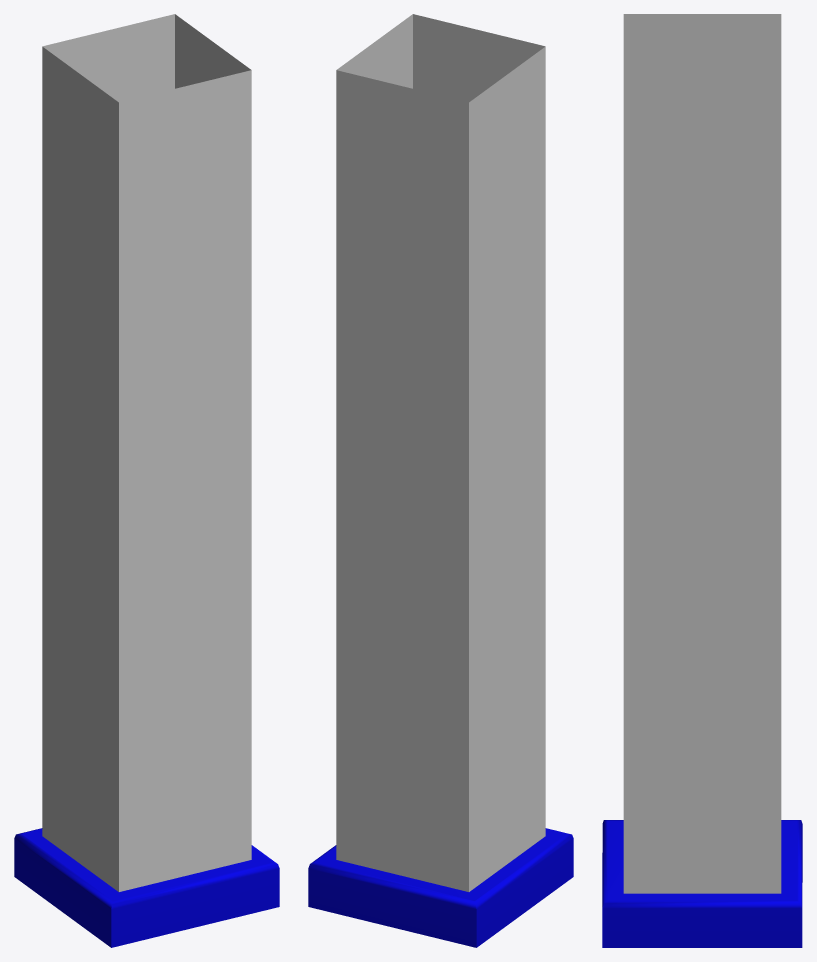
File: HalfPlainColumn.fbx
3 views of the same model, side by side, from view 1: azimuth 30°, elevation 25°; view 2: azimuth 150°, elevation 25°; view 3: azimuth 270°, elevation 25° (orthographic). The views are drawn at different scales.
Visible parts, largest first — view 1: Wall, Trim; view 2: Wall, Trim; view 3: Wall, Trim.
Part boxes in pixels (x1,y1,x2,y2): Wall: (42,14,251,891); Trim: (14,828,279,947); Wall: (336,14,545,891); Trim: (308,828,573,947); Wall: (623,14,781,893); Trim: (602,820,802,947).
Bounding box in the file's own units: 2.54 × 12 × 2.54.
